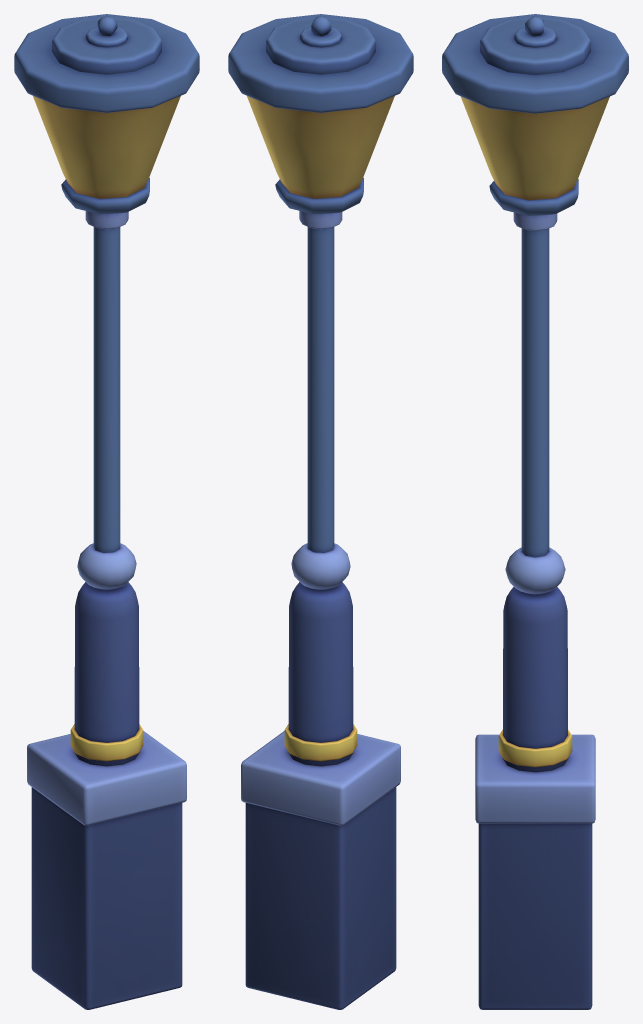
File: OverPass_Light_01.fbx
3 views of the same model, side by side, from view 1: azimuth 30°, elevation 25°; view 2: azimuth 150°, elevation 25°; view 3: azimuth 270°, elevation 25° (orthographic).
Visible parts, largest first — view 1: OverPass_Light_01; view 2: OverPass_Light_01; view 3: OverPass_Light_01.
Boxes of the visible parts, <box> form: OverPass_Light_01: <box>14,14,199,1009</box>; OverPass_Light_01: <box>228,14,413,1009</box>; OverPass_Light_01: <box>442,14,628,1009</box>.
Bounding box in the file's own units: 196 × 1123 × 196.
